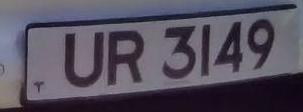1: (194, 18, 216, 81)
3: (157, 20, 199, 86)
4: (211, 15, 247, 78)
9: (243, 14, 279, 74)
R: (103, 24, 149, 92)
U: (57, 26, 107, 92)
